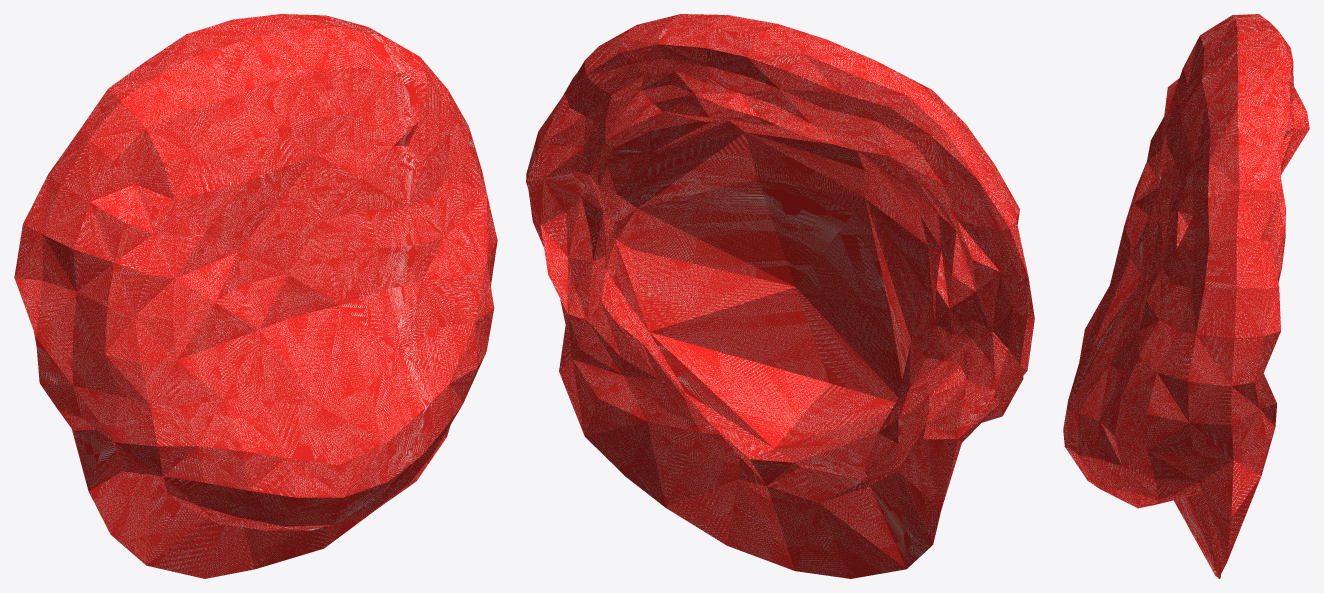
3 views of the same model, side by side, from view 1: azimuth 30°, elevation 25°; view 2: azimuth 150°, elevation 25°; view 3: azimuth 270°, elevation 25° (orthographic). The views are drawn at different scales.
Visible parts, largest first — view 1: mario s cap; view 2: mario s cap; view 3: mario s cap.
Part boxes in pixels (x1=…): mario s cap: x1=14, y1=14, x2=497, y2=578; mario s cap: x1=526, y1=14, x2=1034, y2=578; mario s cap: x1=1063, y1=14, x2=1309, y2=578.
Bounding box in the file's own units: 10.12 × 10.87 × 4.8.
